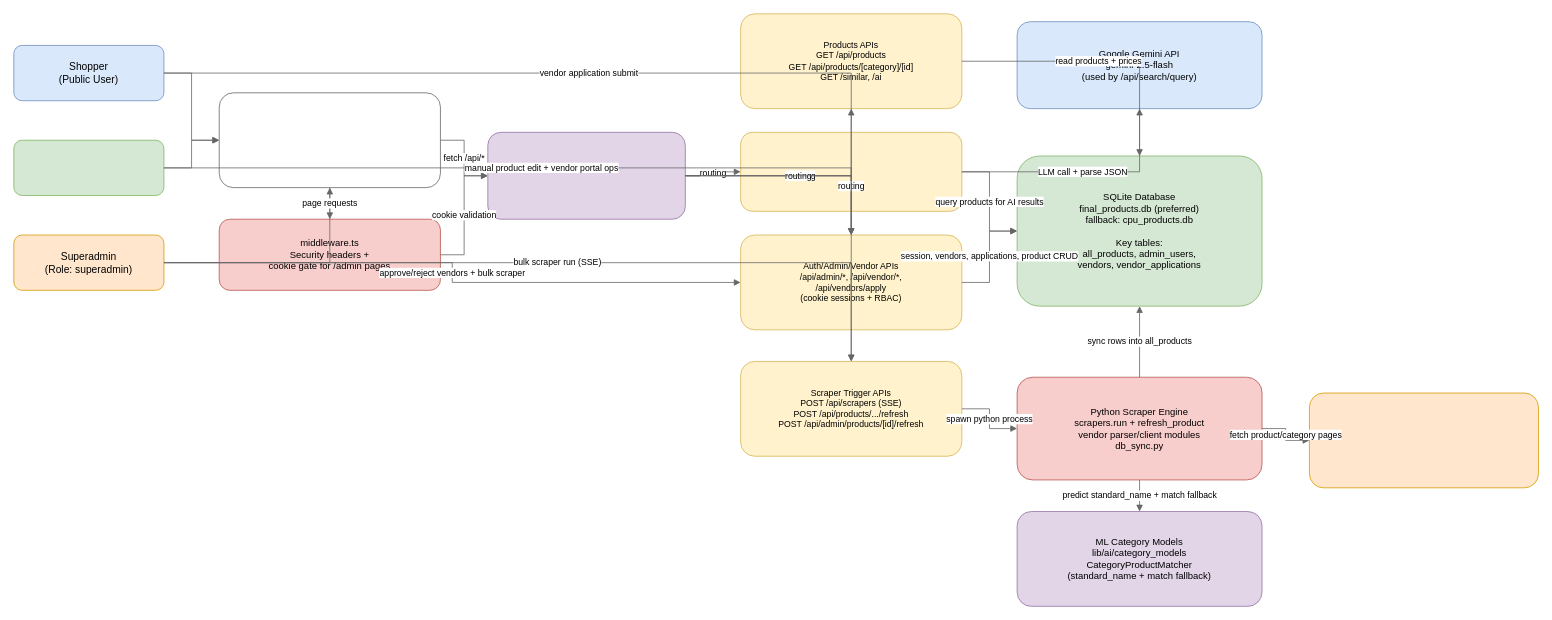
Some shapes in this 1552 by 620 pixel diagram are drawn without their labels. Here are the shapes that lost their labels. From the top down, the box of each, then its label:
(218, 92, 440, 188): Next.js 14 App Router UI /, /products, /compare /admin/*, /vendor/*
(13, 139, 164, 196): Vendor Admin (Role: vendor)
(487, 132, 685, 219): Next.js API Routes Layer app/api/*
(740, 132, 962, 211): AI Search API POST /api/search/query (Gemini analysis + DB retrieval)
(1309, 392, 1539, 488): External Vendor Websites Star Tech, Techland BD, Skyland, PC House, Ultratech
